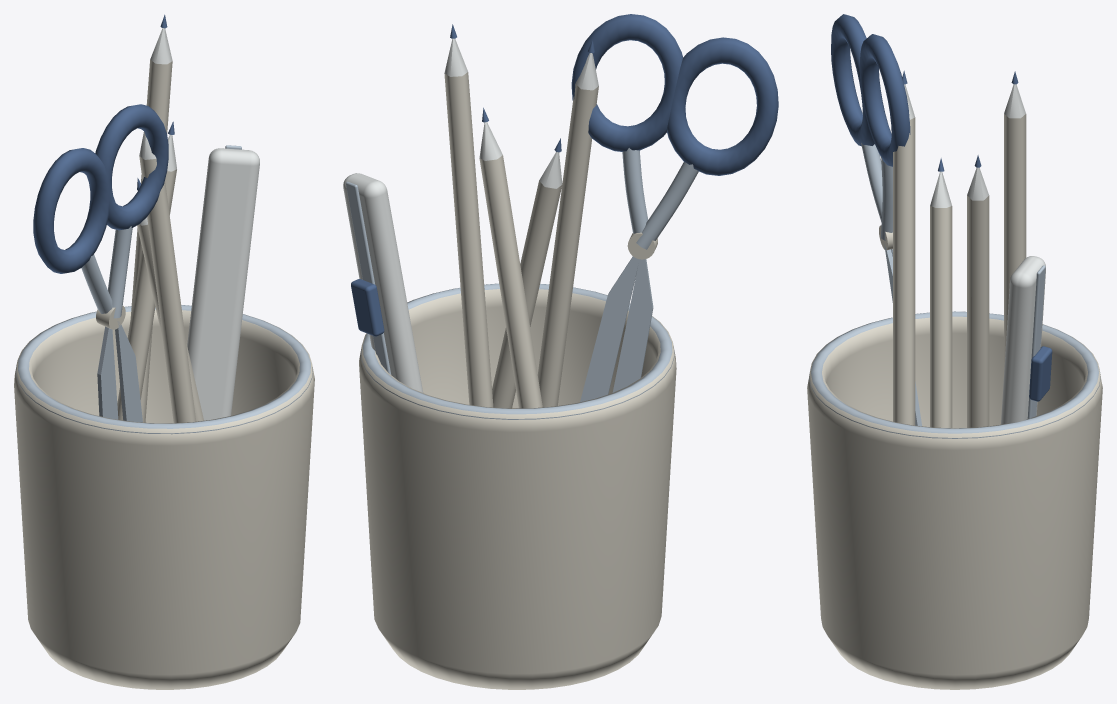
Rendered from pencil-holder.glb.
3 views of the same model, side by side, from view 1: azimuth 30°, elevation 25°; view 2: azimuth 150°, elevation 25°; view 3: azimuth 270°, elevation 25° (orthographic). The views are drawn at different scales.
Parts seen in each view (by area): view 1: hollow-ceramic-cup, knife-body, hexagonal-barrel (×4), finger-loop--1, finger-loop-1, rolled-rim, steel-blade-1, steel-blade--1, handle-neck-1, handle-neck--1, sharpened-wood; view 2: hollow-ceramic-cup, hexagonal-barrel (×4), finger-loop--1, knife-body, finger-loop-1, rolled-rim, steel-blade-1, steel-blade--1, handle-neck--1, blade-channel, handle-neck-1, thumb-slider; view 3: hollow-ceramic-cup, hexagonal-barrel (×4), knife-body, rolled-rim, finger-loop-1, finger-loop--1, sharpened-wood (×3), thumb-slider, blade-channel, handle-neck--1, handle-neck-1.
Boxes of the visible parts, x1=… form: hollow-ceramic-cup: x1=14, y1=309, x2=314, y2=689; knife-body: x1=187, y1=148, x2=259, y2=420; hexagonal-barrel (×4): x1=117, y1=60, x2=203, y2=423; finger-loop--1: x1=33, y1=148, x2=109, y2=273; finger-loop-1: x1=95, y1=104, x2=168, y2=230; rolled-rim: x1=16, y1=305, x2=312, y2=434; steel-blade-1: x1=115, y1=321, x2=142, y2=422; steel-blade--1: x1=97, y1=326, x2=118, y2=419; handle-neck-1: x1=108, y1=226, x2=132, y2=318; handle-neck--1: x1=81, y1=254, x2=112, y2=313; sharpened-wood: x1=150, y1=28, x2=172, y2=64; hollow-ceramic-cup: x1=359, y1=289, x2=676, y2=689; hexagonal-barrel (×4): x1=444, y1=72, x2=598, y2=408; finger-loop--1: x1=667, y1=37, x2=778, y2=175; knife-body: x1=343, y1=173, x2=423, y2=392; finger-loop-1: x1=571, y1=14, x2=683, y2=151; rolled-rim: x1=361, y1=283, x2=674, y2=419; steel-blade-1: x1=580, y1=256, x2=639, y2=402; steel-blade--1: x1=612, y1=259, x2=653, y2=392; handle-neck--1: x1=636, y1=162, x2=698, y2=249; blade-channel: x1=345, y1=181, x2=391, y2=374; handle-neck-1: x1=622, y1=148, x2=648, y2=233; thumb-slider: x1=351, y1=279, x2=384, y2=336; hollow-ceramic-cup: x1=807, y1=316, x2=1102, y2=689; hexagonal-barrel (×4): x1=893, y1=114, x2=1026, y2=428; knife-body: x1=1001, y1=256, x2=1045, y2=424; rolled-rim: x1=809, y1=311, x2=1100, y2=438; finger-loop-1: x1=859, y1=34, x2=910, y2=166; finger-loop--1: x1=831, y1=14, x2=874, y2=146; sharpened-wood (×3): x1=930, y1=84, x2=1025, y2=207; thumb-slider: x1=1029, y1=346, x2=1052, y2=401; blade-channel: x1=1027, y1=265, x2=1045, y2=418; handle-neck--1: x1=861, y1=143, x2=882, y2=222; handle-neck-1: x1=881, y1=157, x2=892, y2=240.
Bounding box in the file's own units: 0.3898 × 0.6964 × 0.32.
